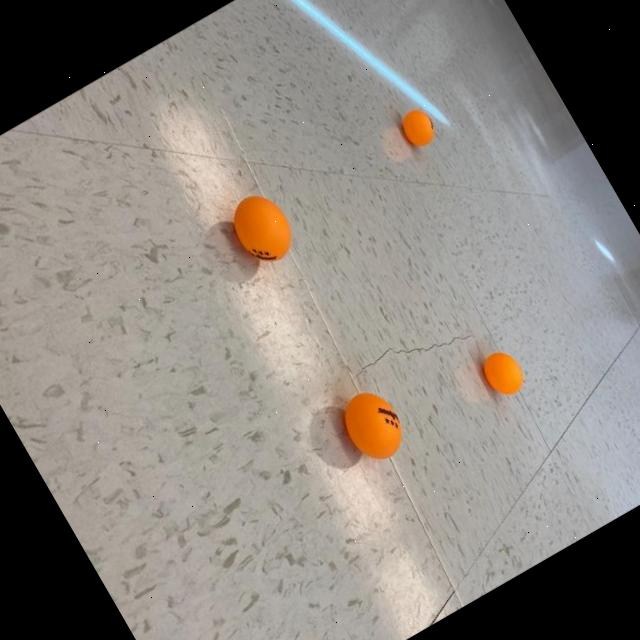ping-pong-ball: (218, 180, 306, 276), (330, 380, 416, 472), (474, 342, 532, 404), (393, 101, 444, 156)
